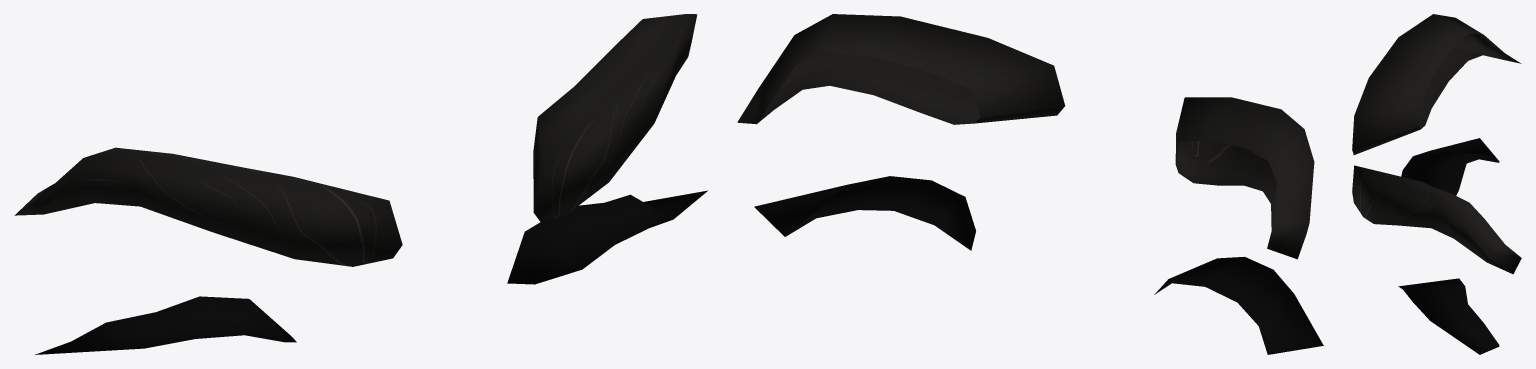
Rendered from brous6.fbx.
3 renders of one model, left to right at view 1: azimuth 30°, elevation 25°; view 2: azimuth 150°, elevation 25°; view 3: azimuth 270°, elevation 25°, orthographic. The views are drawn at different scales.
Parts seen in each view (by area): view 1: brous6; view 2: brous6; view 3: brous6.
Boxes of the visible parts, left/top/right/bottom form: brous6: left=14, top=14, right=707, bottom=354; brous6: left=737, top=14, right=1323, bottom=354; brous6: left=1352, top=14, right=1521, bottom=354.
Bounding box in the file's own units: 11.14 × 3.68 × 3.68.
